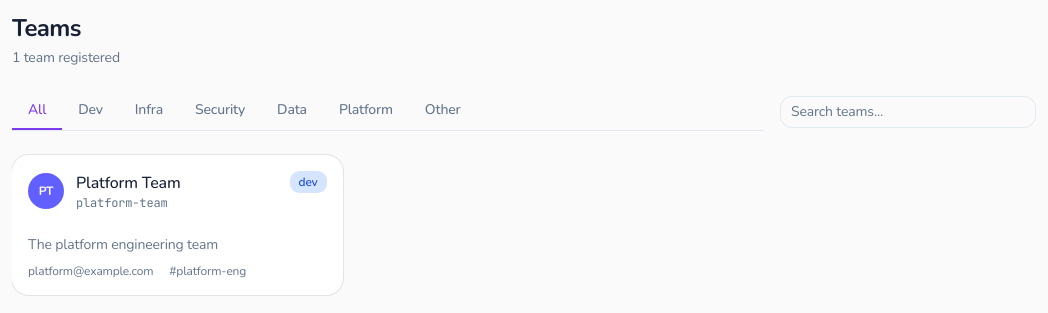
TeamsClient › shows filtered empty state when the type filter matches no teams
Expected: the text "Platform Team" is shown, [76, 171, 181, 195]
Click the button "Security" at (220, 111), box [179, 92, 261, 130]
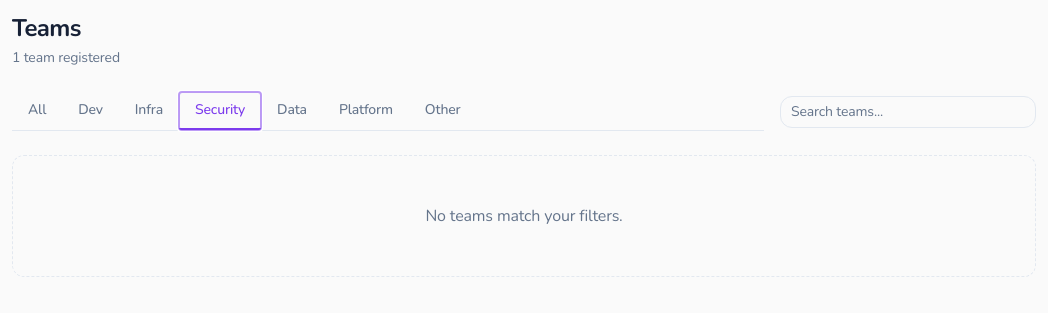
Now the text "No teams match your filters." is shown, box [12, 155, 1036, 277]
